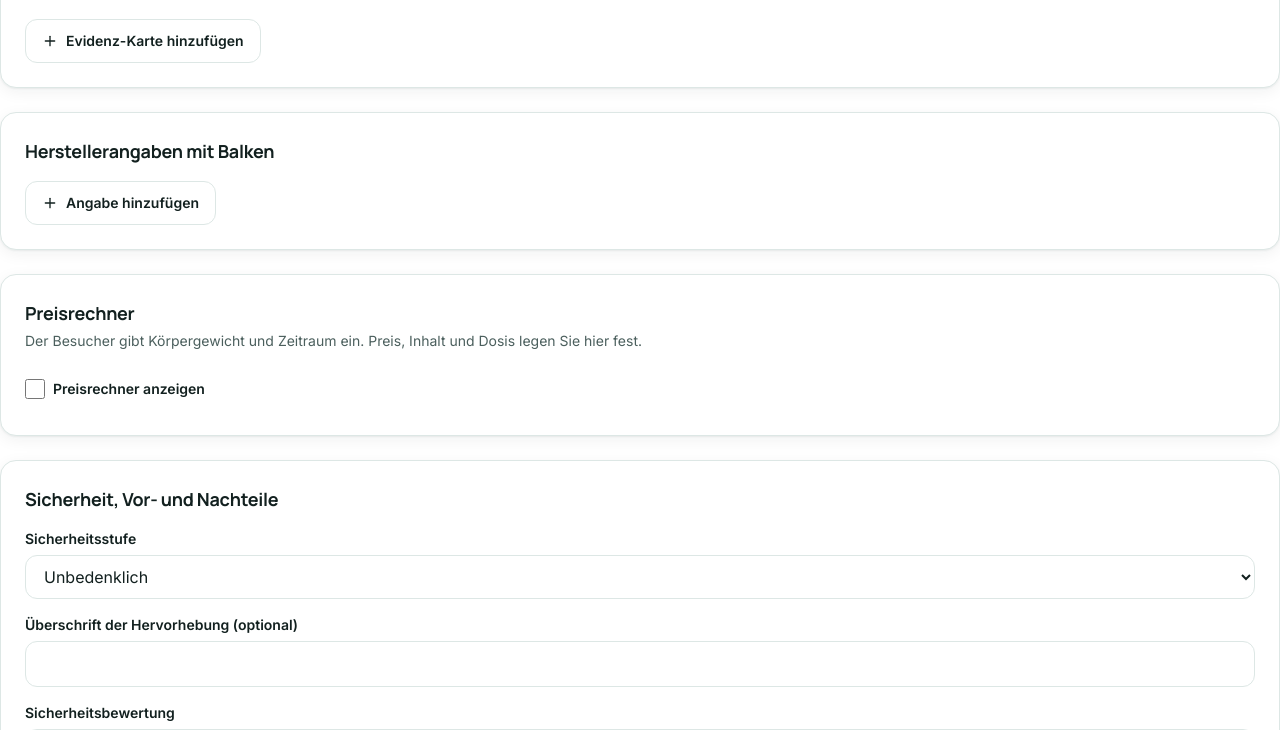
Test: Admin-Maske der Testvorlage › Preisrechner-Felder erscheinen erst nach Aktivierung
(page scrolled)
Expected: the text "Tagesdosis je kg Körpergewicht" is not shown
Click the checkbox labelled "Preisrechner anzeigen".
click(35, 389)  # box [25,379,45,399]
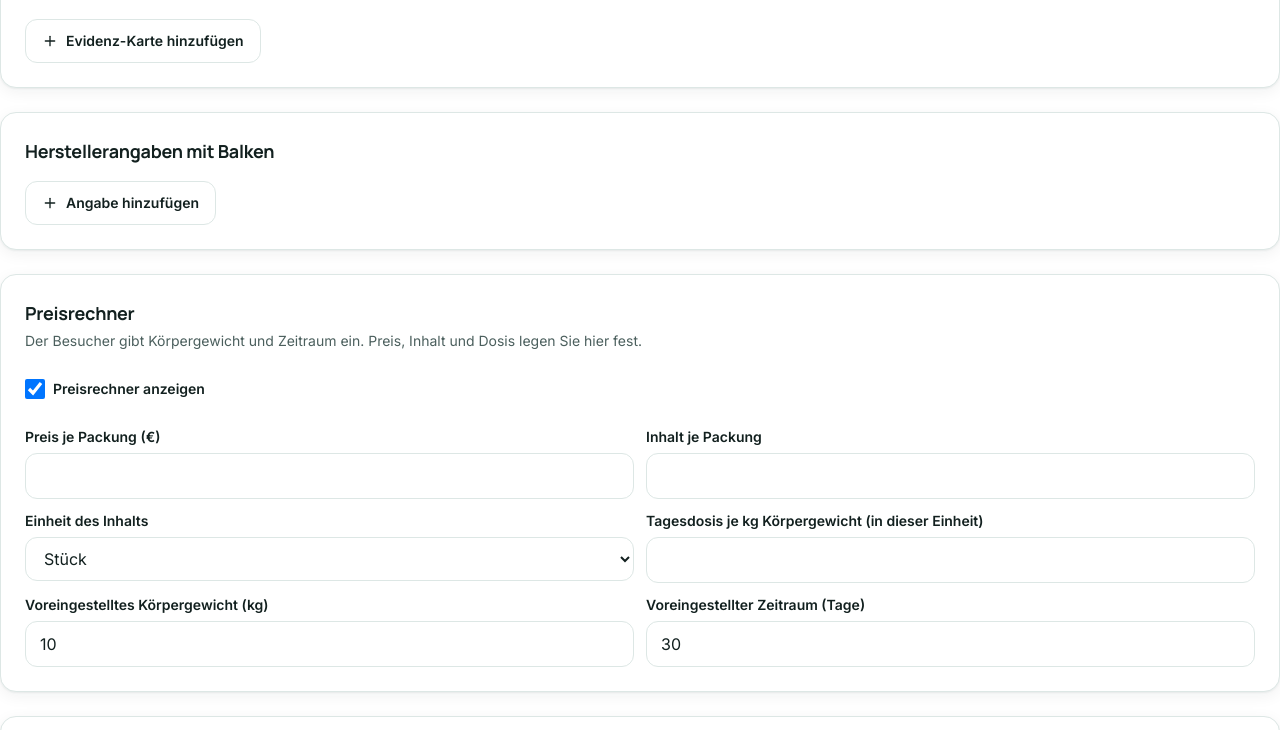
Expected: the text "Tagesdosis je kg Körpergewicht" is shown, [646,512,984,529]
